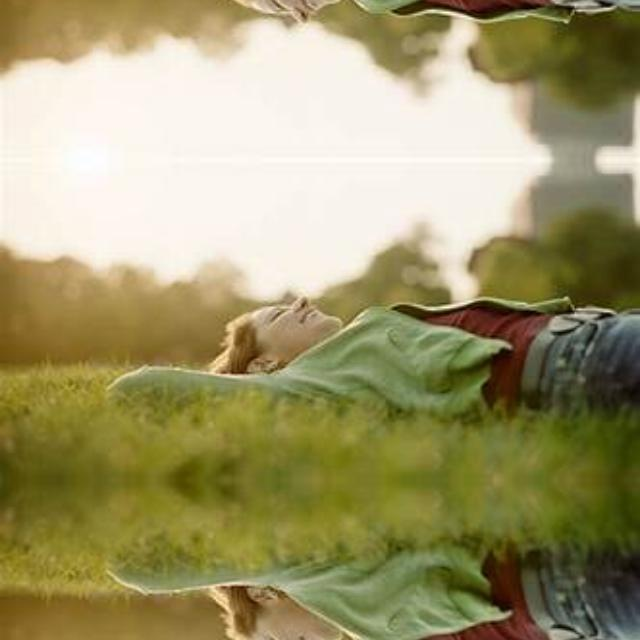person: (136, 268, 640, 442), (136, 517, 639, 640), (136, 0, 639, 52)
